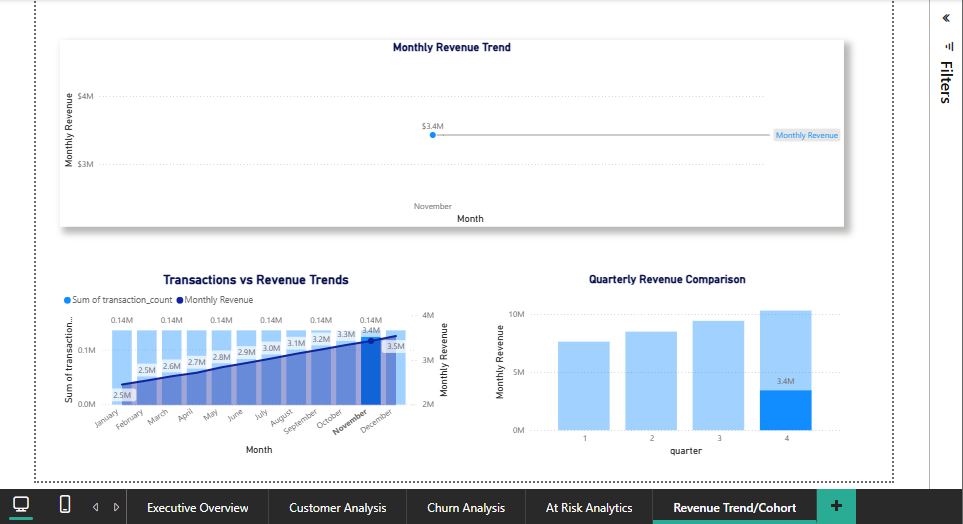

What the dashboard file says about the page in this screenshot:
{"tool":"powerbi","page":{"name":"Revenue Trend/Cohort","canvas":[1280,720],"ordinal":4},"visuals":[{"type":"lineChart","title":"Monthly Revenue  Trend","fields":{"Category":["saas_analytics monthly_revenue.revenue_month.Variation.Date Hierarchy.Month"],"Y":["saas_analytics monthly_revenue.Monthly Revenue"]},"box":[35.9,61.2,1171.1,279.3],"z":0},{"type":"lineClusteredColumnComboChart","title":"Transactions vs Revenue Trends","fields":{"Category":["saas_analytics monthly_revenue.revenue_month.Variation.Date Hierarchy.Month"],"Y":["Sum(saas_analytics customers.transaction_count)"],"Y2":["saas_analytics monthly_revenue.Monthly Revenue"]},"box":[35.9,407.8,585.6,279.3],"z":1},{"type":"clusteredColumnChart","title":"Quarterly Revenue Comparison","fields":{"Category":["saas_analytics monthly_revenue.quarter"],"Y":["saas_analytics monthly_revenue.Monthly Revenue"]},"box":[679.7,407.8,527.3,279.3],"z":2}]}

Visuals, with their boxes on the page's 1280x720 design canvas (x1, y1, x2, y2). These are canvas units, not pixel positions in the 963x524 screenshot, which may show the page scaled, cropped or inside an application window:
"Monthly Revenue  Trend" lineChart: bbox=(36, 61, 1207, 340)
"Transactions vs Revenue Trends" lineClusteredColumnComboChart: bbox=(36, 408, 622, 687)
"Quarterly Revenue Comparison" clusteredColumnChart: bbox=(680, 408, 1207, 687)
